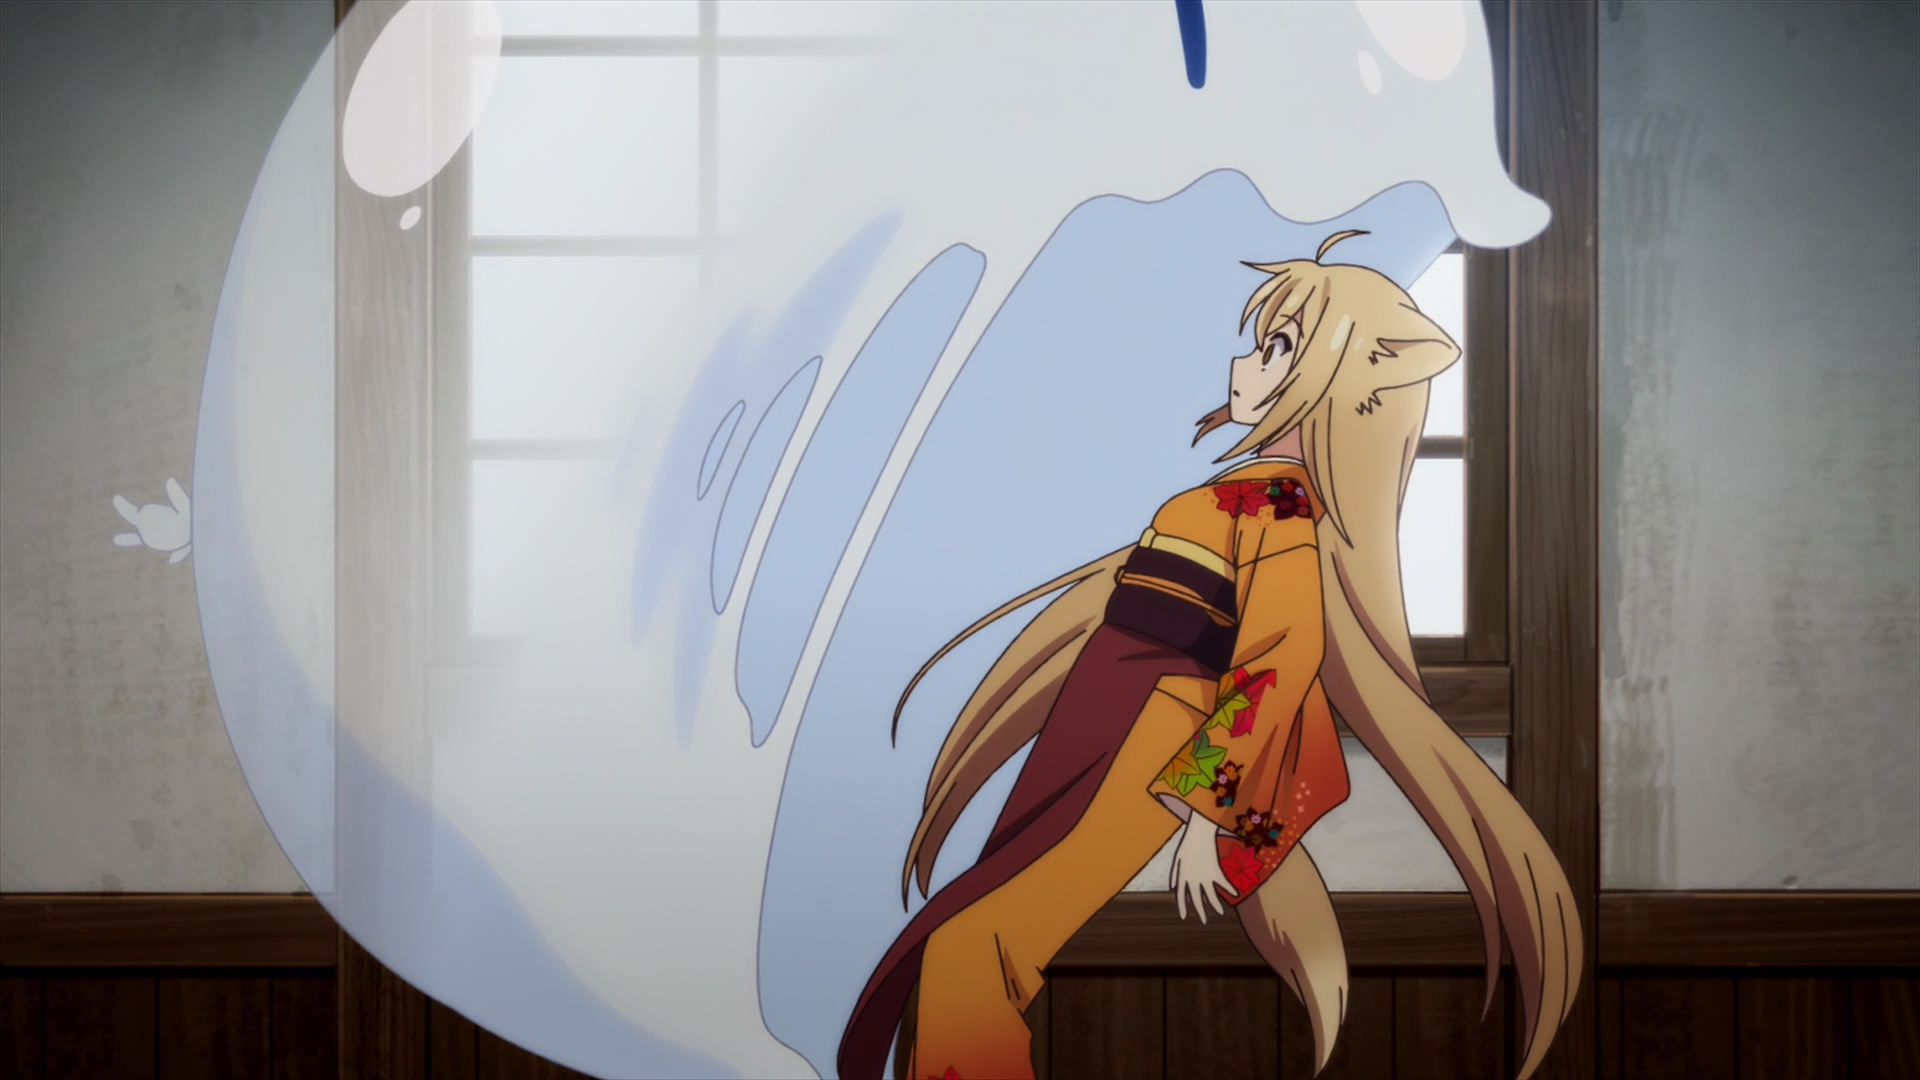柚: (835, 229, 1582, 1080)
